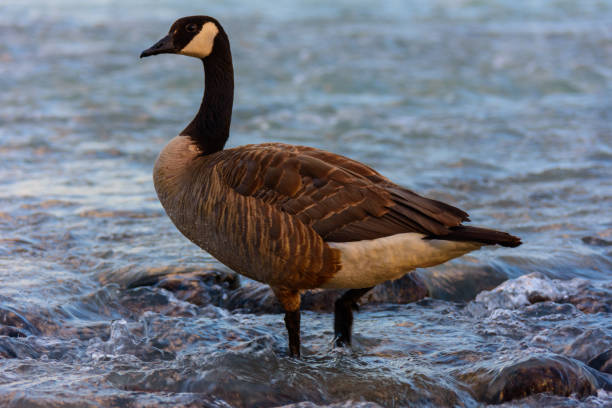goose: (130, 11, 530, 365)
